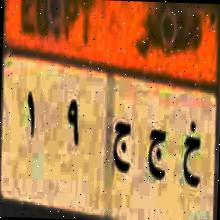1: (22, 88, 40, 144)
9: (64, 88, 82, 152)
jeem: (108, 113, 132, 187), (144, 122, 170, 189)
khaa: (181, 118, 204, 200)
